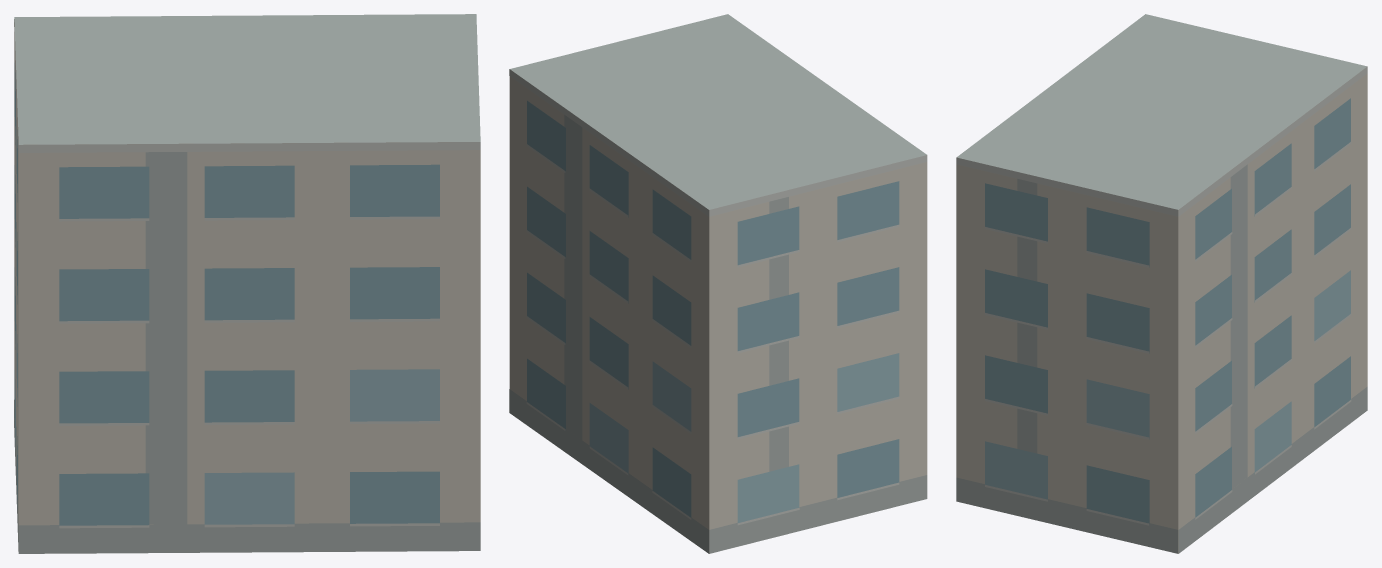
File: residential-a9d85462-025e-420e-801e-a94e709b9730.glb
3 renders of one model, left to right at view 1: azimuth 30°, elevation 25°; view 2: azimuth 150°, elevation 25°; view 3: azimuth 270°, elevation 25°, orthographic. The views are drawn at different scales.
Visible parts, largest first — view 1: residential-a9d85462-025e-420e-801e-a94e709b9730.tmp; view 2: residential-a9d85462-025e-420e-801e-a94e709b9730.tmp; view 3: residential-a9d85462-025e-420e-801e-a94e709b9730.tmp.
Boxes of the visible parts, left/top/right/bottom form: residential-a9d85462-025e-420e-801e-a94e709b9730.tmp: left=14, top=14, right=480, bottom=553; residential-a9d85462-025e-420e-801e-a94e709b9730.tmp: left=509, top=14, right=927, bottom=553; residential-a9d85462-025e-420e-801e-a94e709b9730.tmp: left=956, top=14, right=1367, bottom=553.
Bounding box in the file's own units: 14.91 × 12.2 × 13.22.
